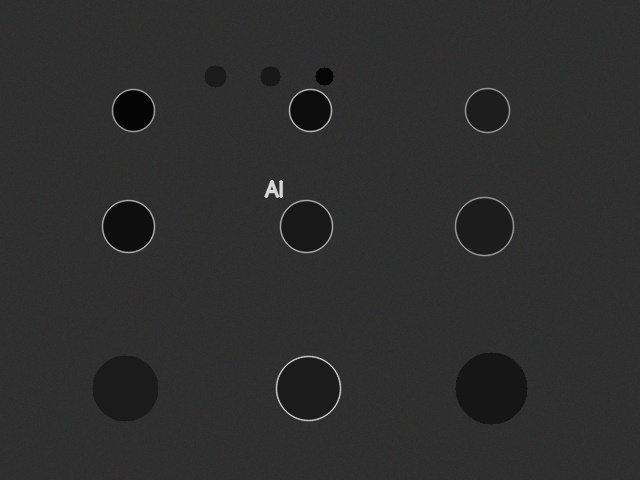hole: (455, 352, 527, 424), (92, 355, 158, 421), (276, 356, 340, 420), (455, 197, 513, 255), (102, 200, 154, 252), (280, 200, 332, 252), (465, 88, 509, 132), (112, 89, 154, 131), (289, 89, 331, 131), (204, 65, 226, 87), (260, 66, 280, 86), (315, 67, 333, 85)
